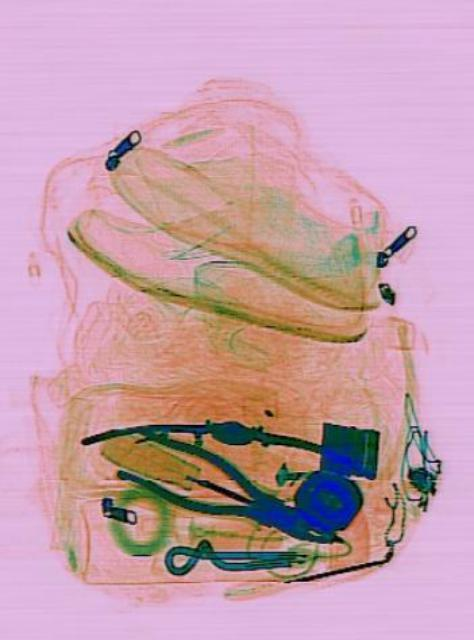Pliers: (113, 414, 340, 566)
